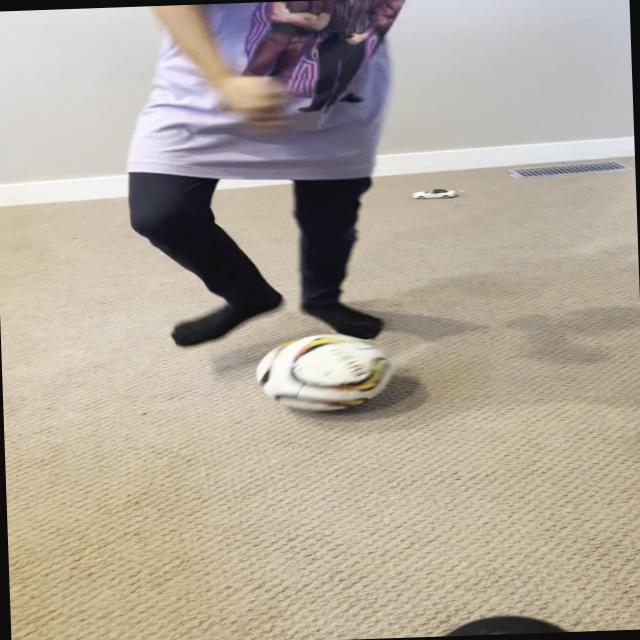Soccer Ball: (256, 331, 396, 414)
